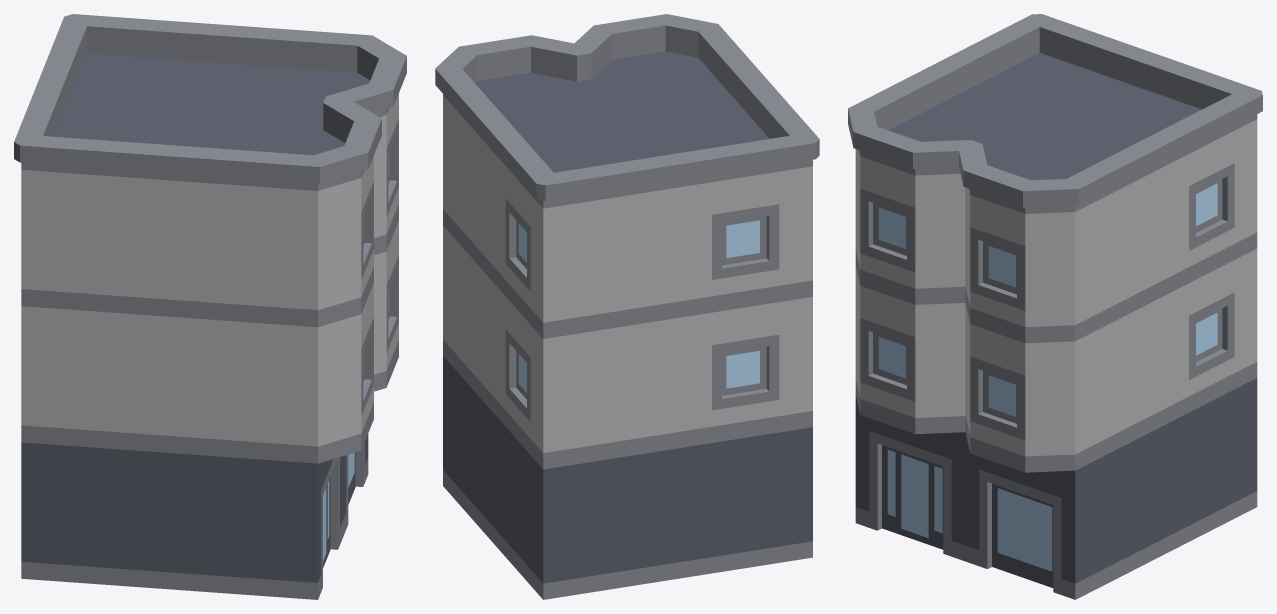
The model's file is variant_32.fbx.
3 renders of one model, left to right at view 1: azimuth 30°, elevation 25°; view 2: azimuth 150°, elevation 25°; view 3: azimuth 270°, elevation 25°, orthographic. The views are drawn at different scales.
Visible parts, largest first — view 1: small_buildingA; view 2: small_buildingA; view 3: small_buildingA.
Boxes of the visible parts, x1,y1,x2,y2 form: small_buildingA: [14, 14, 406, 599]; small_buildingA: [435, 14, 819, 599]; small_buildingA: [848, 14, 1262, 599].
Size of the model in its own units: 118 by 128 by 116.
